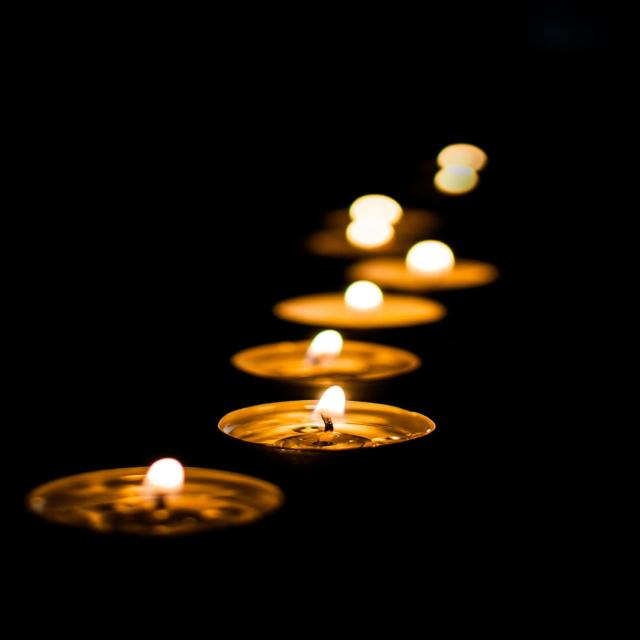Fire: (415, 133, 500, 198), (286, 377, 371, 440), (326, 188, 406, 252), (135, 449, 204, 514), (291, 321, 365, 372), (333, 272, 408, 317), (402, 235, 466, 284)
